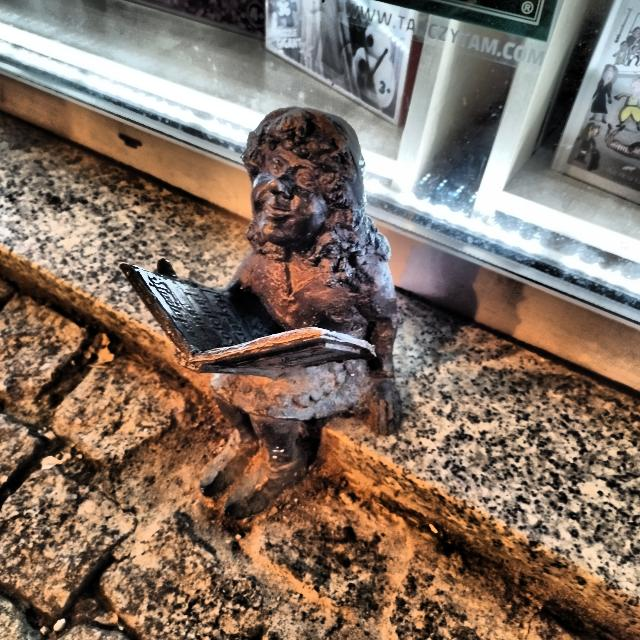Ksiegarka: (113, 96, 414, 542)
